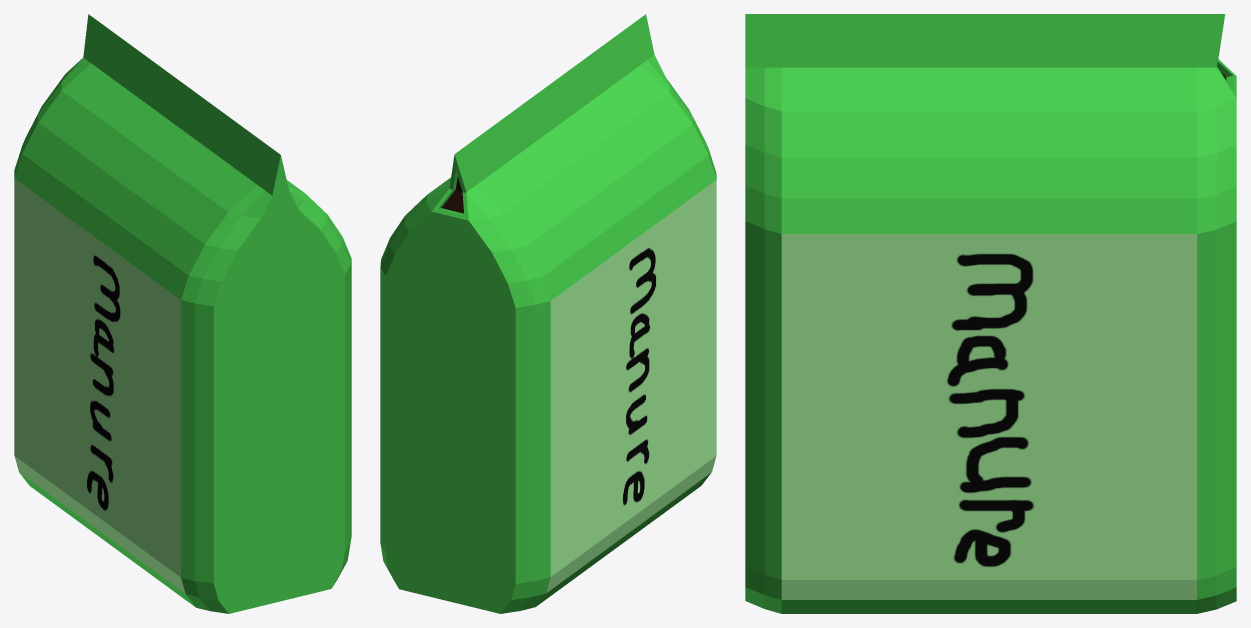
Rendered from mest.fbx.
3 views of the same model, side by side, from view 1: azimuth 30°, elevation 25°; view 2: azimuth 150°, elevation 25°; view 3: azimuth 270°, elevation 25° (orthographic). The views are drawn at different scales.
Parts seen in each view (by area): view 1: Cube; view 2: Cube; view 3: Cube.
Boxes of the visible parts, x1,y1,x2,y2 form: Cube: [14, 14, 351, 613]; Cube: [380, 14, 716, 613]; Cube: [745, 14, 1236, 613].
Size of the model in its own units: 0.3 by 0.75 by 0.6.
